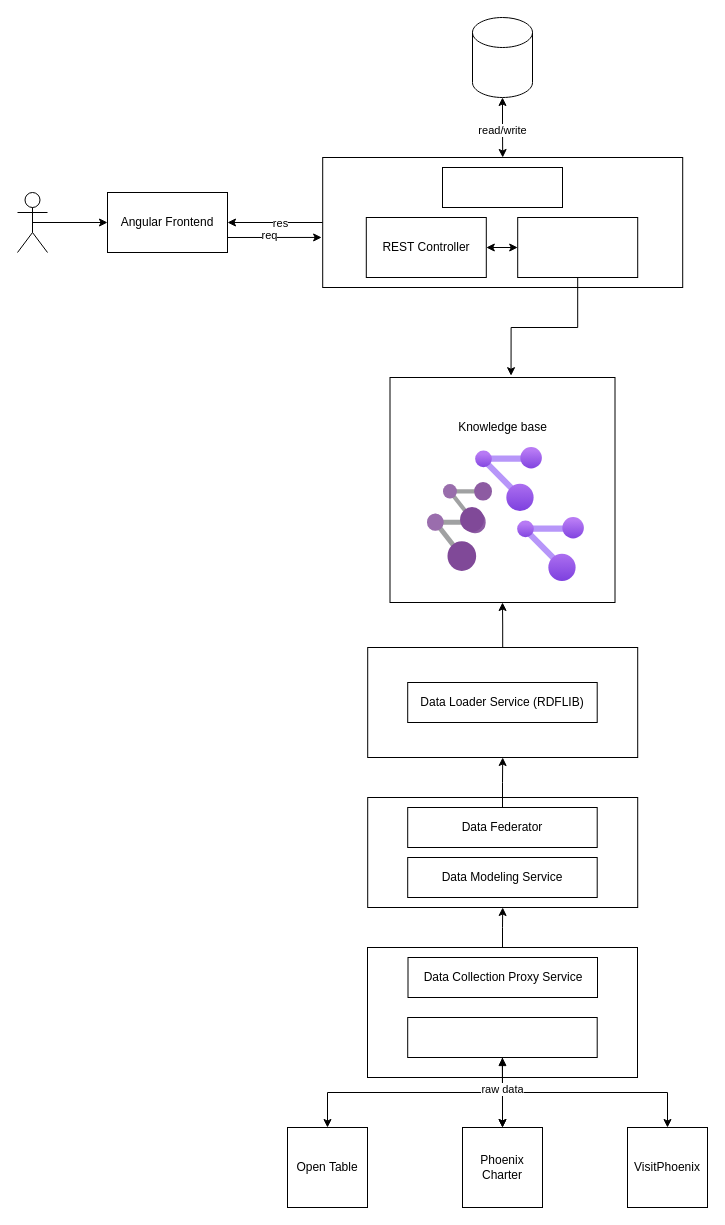
Image size: 725x1225. Some labels were removed from this diagram. Here are the shapes that lost their labels. From the top down, the centre of each, then its label:
the point at 502,57: User Database
the point at 502,187: User Management Service
the point at 32,222: User
the point at 577,247: Sparql Query Engine
the point at 502,1037: Web Scrapper Agent
